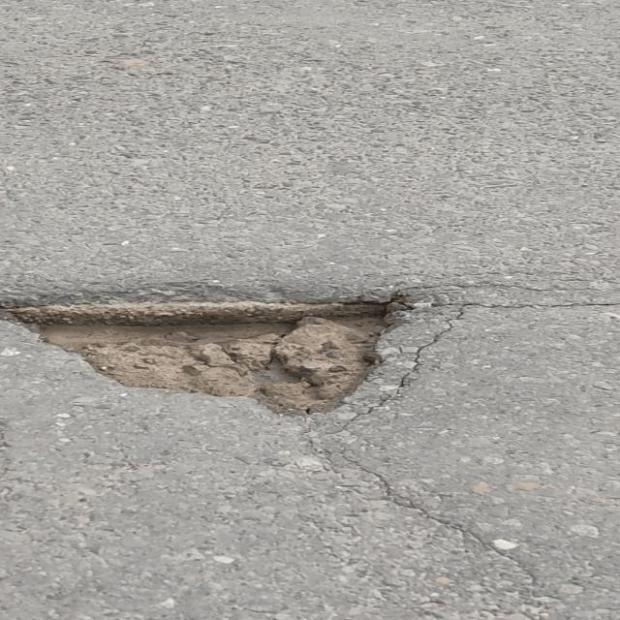lubang: (2, 288, 460, 413)
